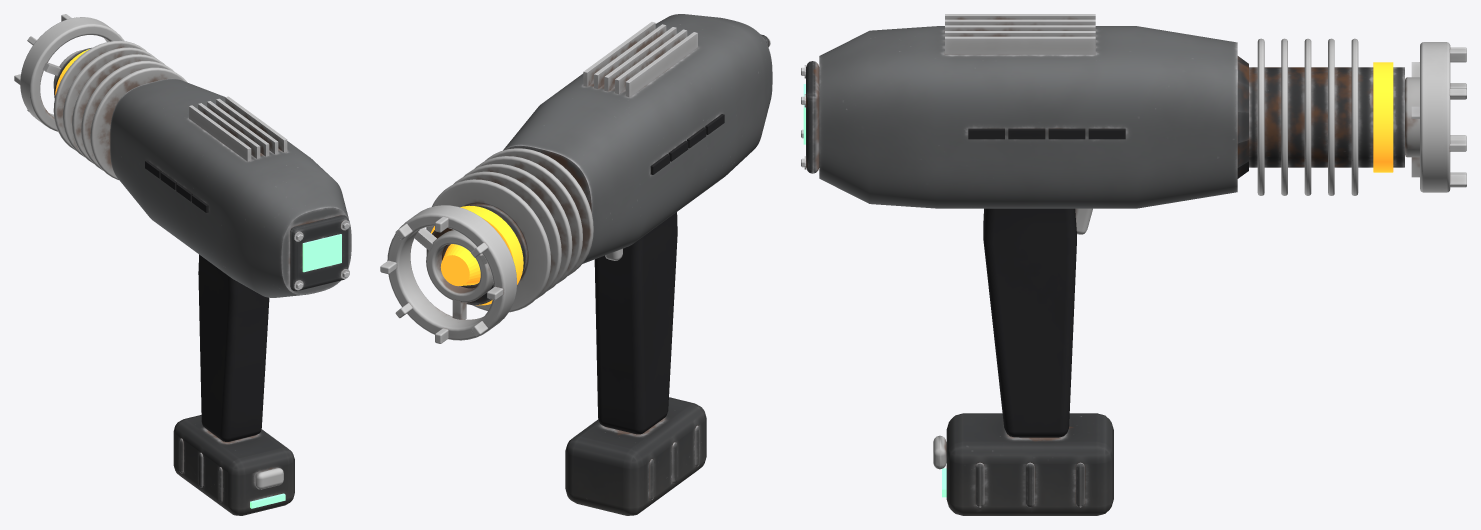
File: SM_MiningTool.glb
3 renders of one model, left to right at view 1: azimuth 30°, elevation 25°; view 2: azimuth 150°, elevation 25°; view 3: azimuth 270°, elevation 25°, orthographic. The views are drawn at different scales.
Parts seen in each view (by area): view 1: SM_MiningTool, SM_MiningTool_Crown; view 2: SM_MiningTool, SM_MiningTool_Crown; view 3: SM_MiningTool, SM_MiningTool_Crown.
Boxes of the visible parts, x1,y1,x2,y2 form: SM_MiningTool: (53,40,351,515); SM_MiningTool_Crown: (14,14,124,131); SM_MiningTool: (426,14,772,515); SM_MiningTool_Crown: (380,205,516,343); SM_MiningTool: (801,14,1404,515); SM_MiningTool_Crown: (1405,42,1466,192).
Bounding box in the file's own units: 0.094 × 0.313 × 0.398.
Materials: 7 (5 with a texture image).
